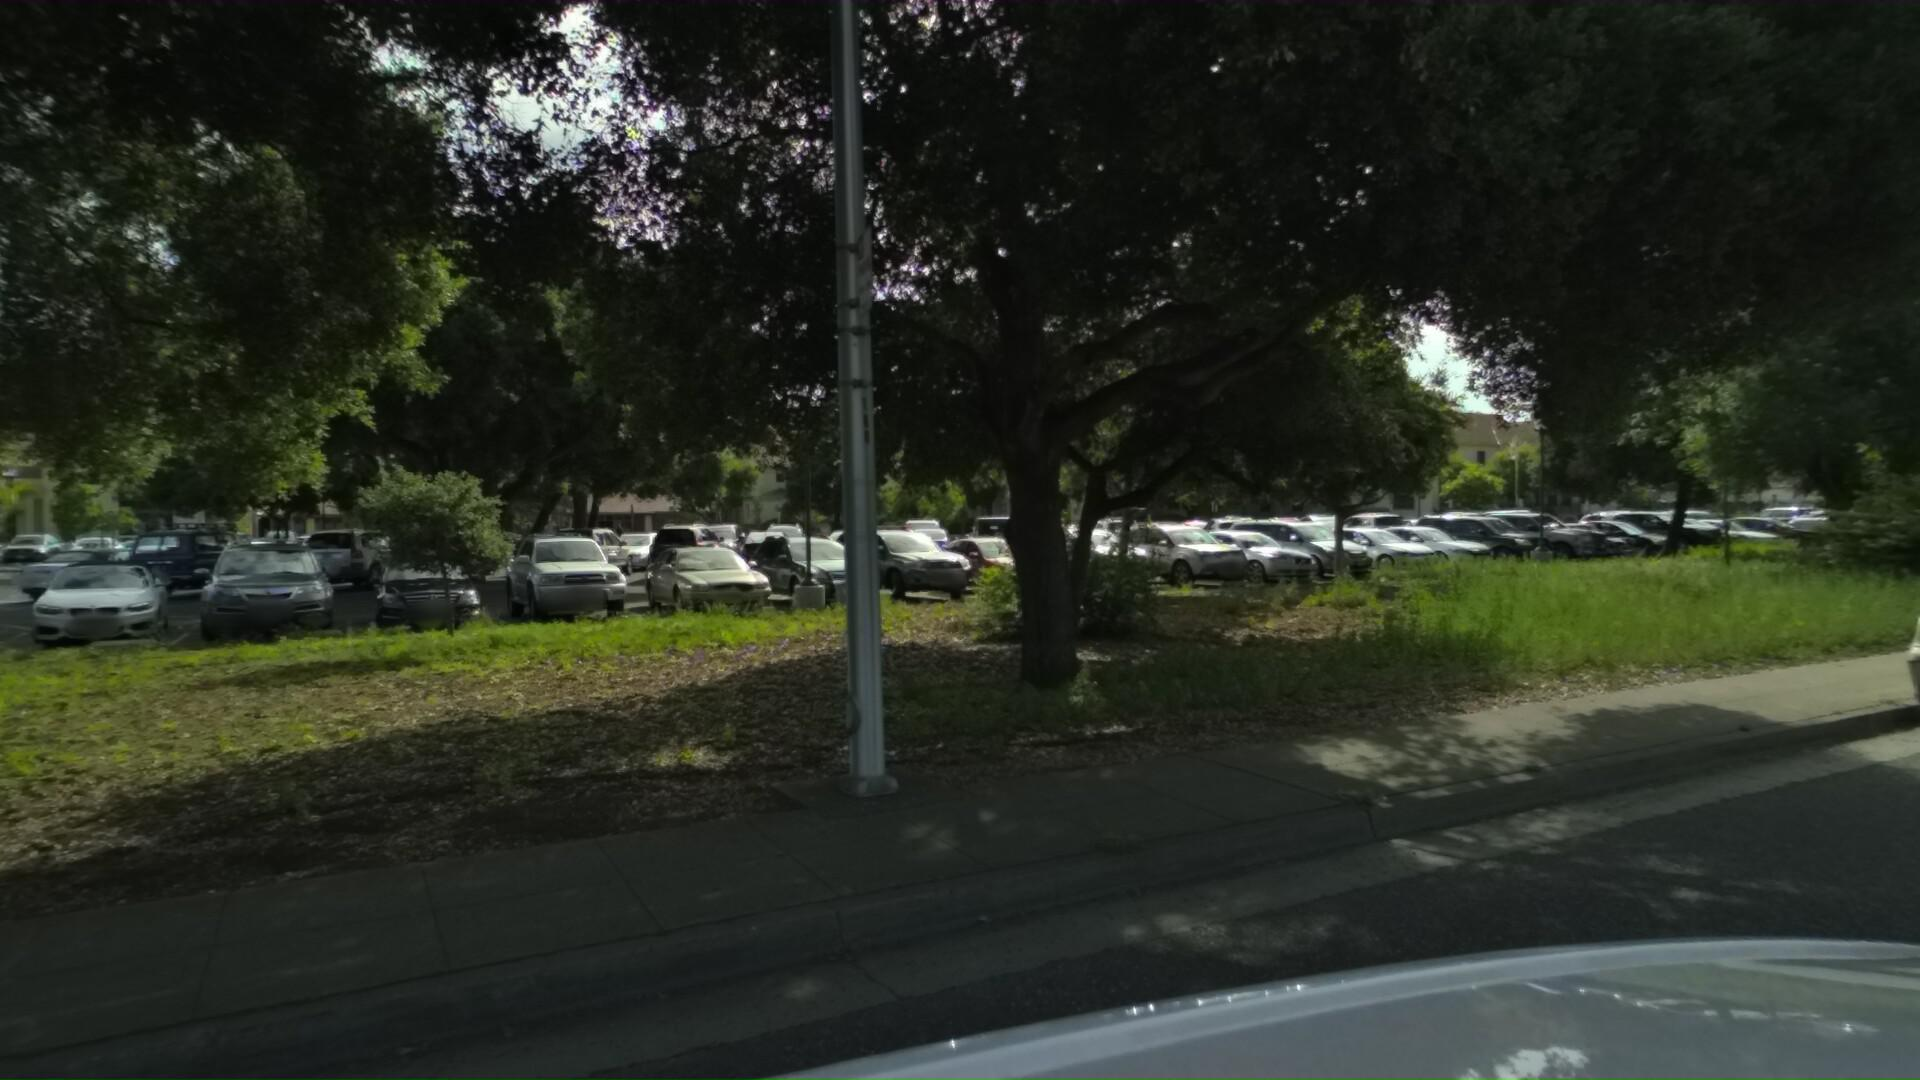car: (1873, 489, 1920, 787)
